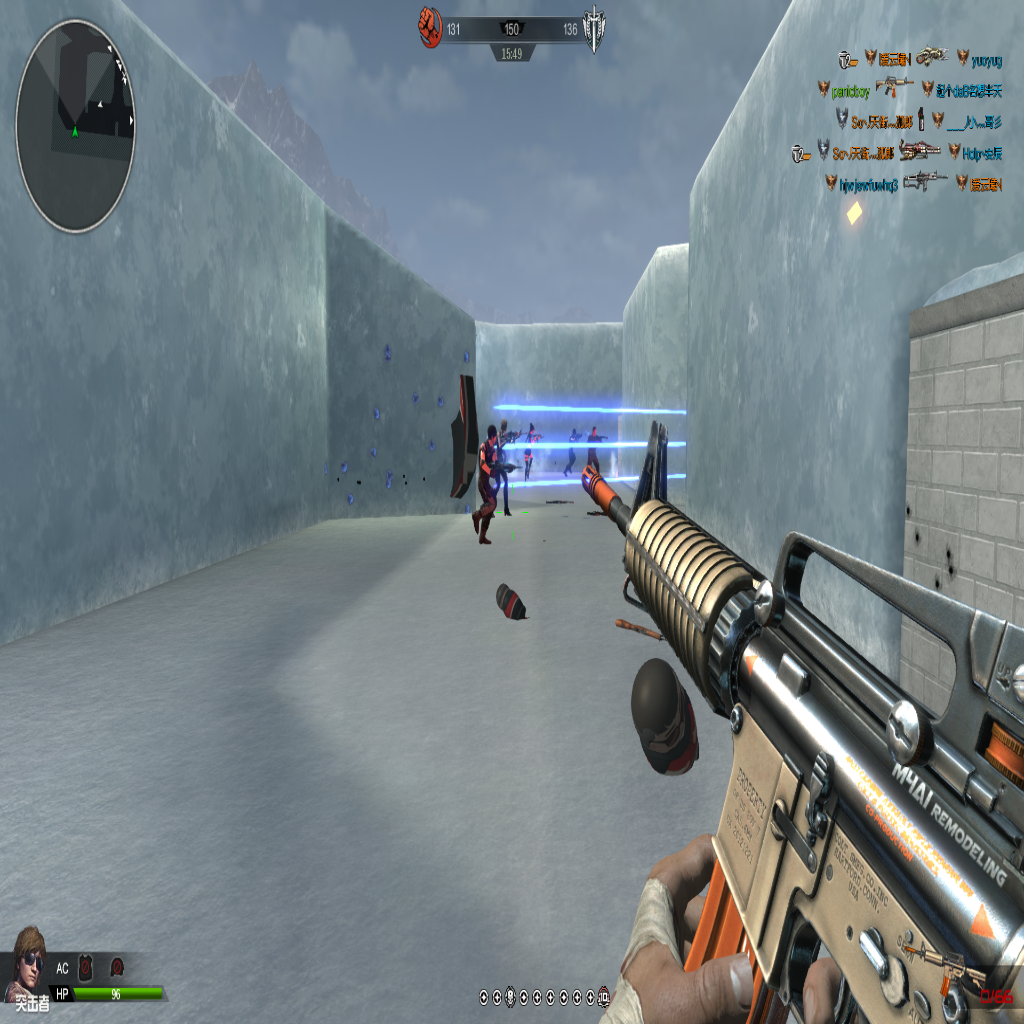ct: (472, 421, 503, 553), (492, 415, 515, 518)
